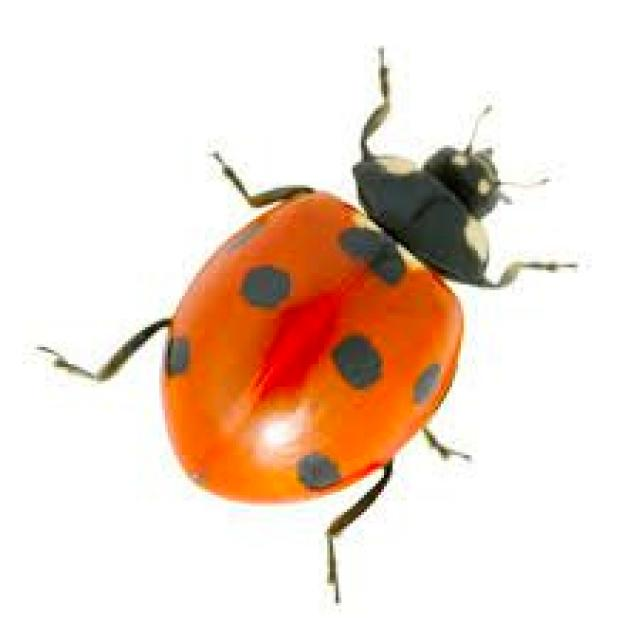ladybug: (37, 77, 498, 600)
